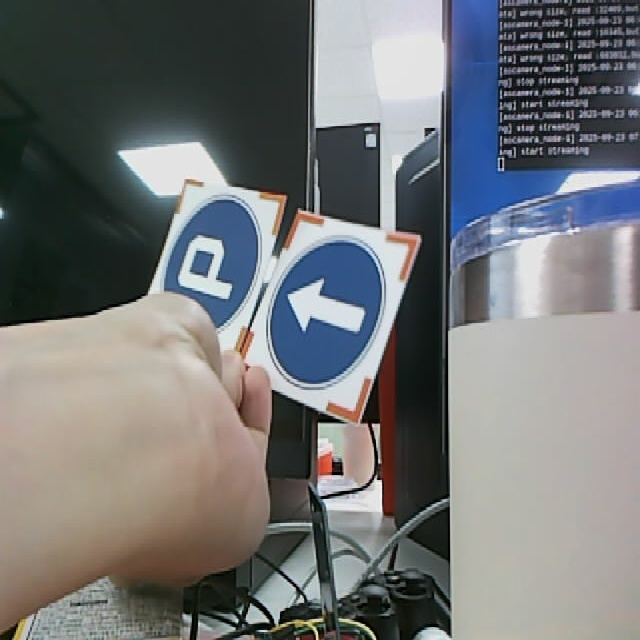parking: (148, 179, 280, 351)
straight: (246, 208, 417, 424)
